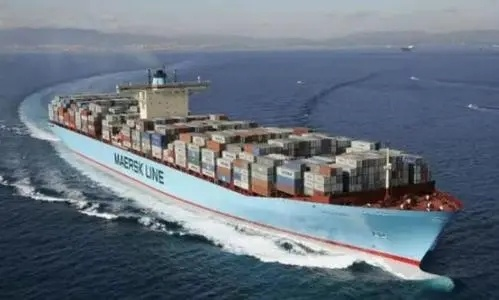Cargoship: (43, 63, 466, 272)
